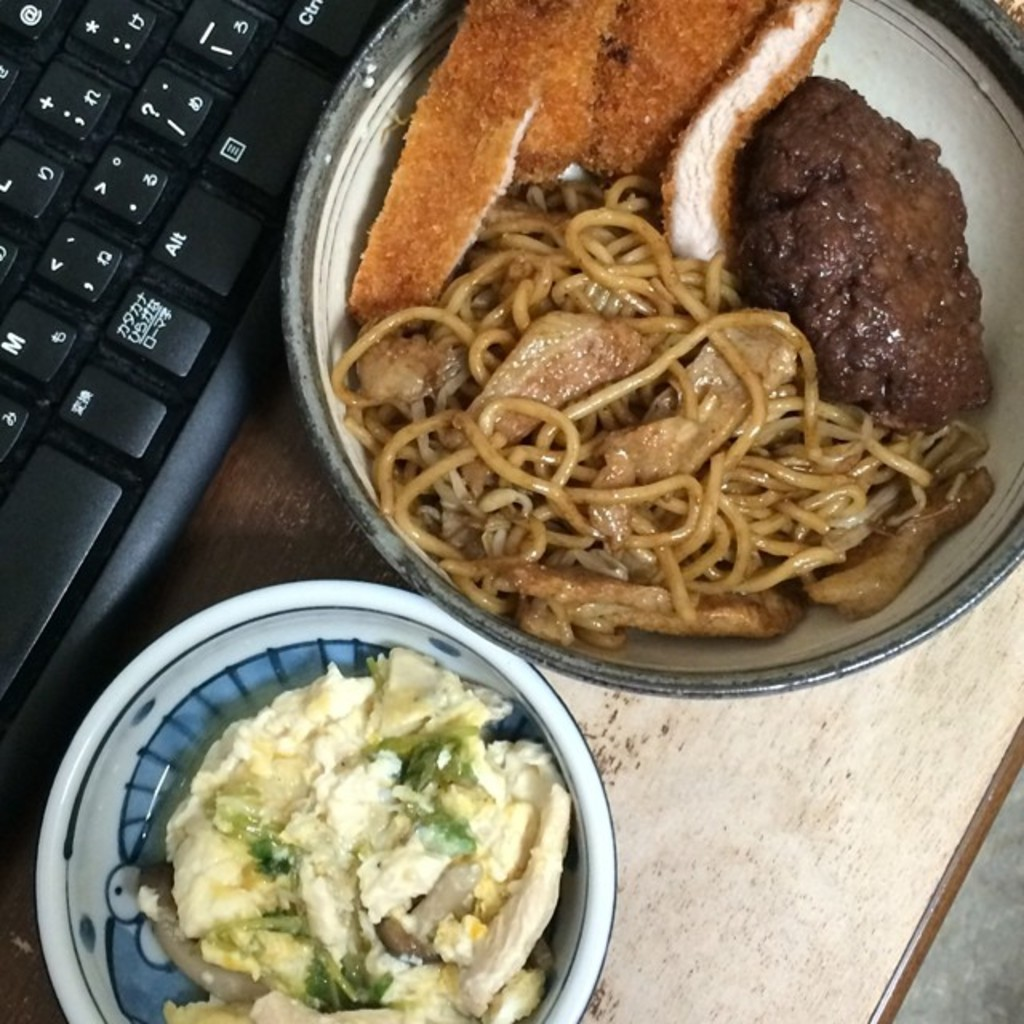pasta: (371, 154, 891, 667)
